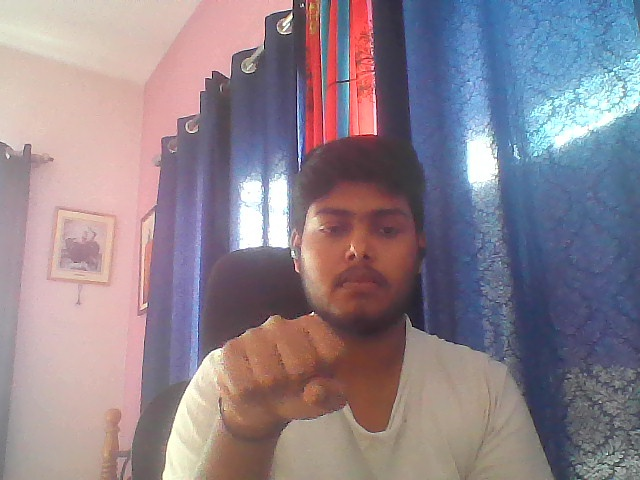Yes: (209, 310, 374, 437)
